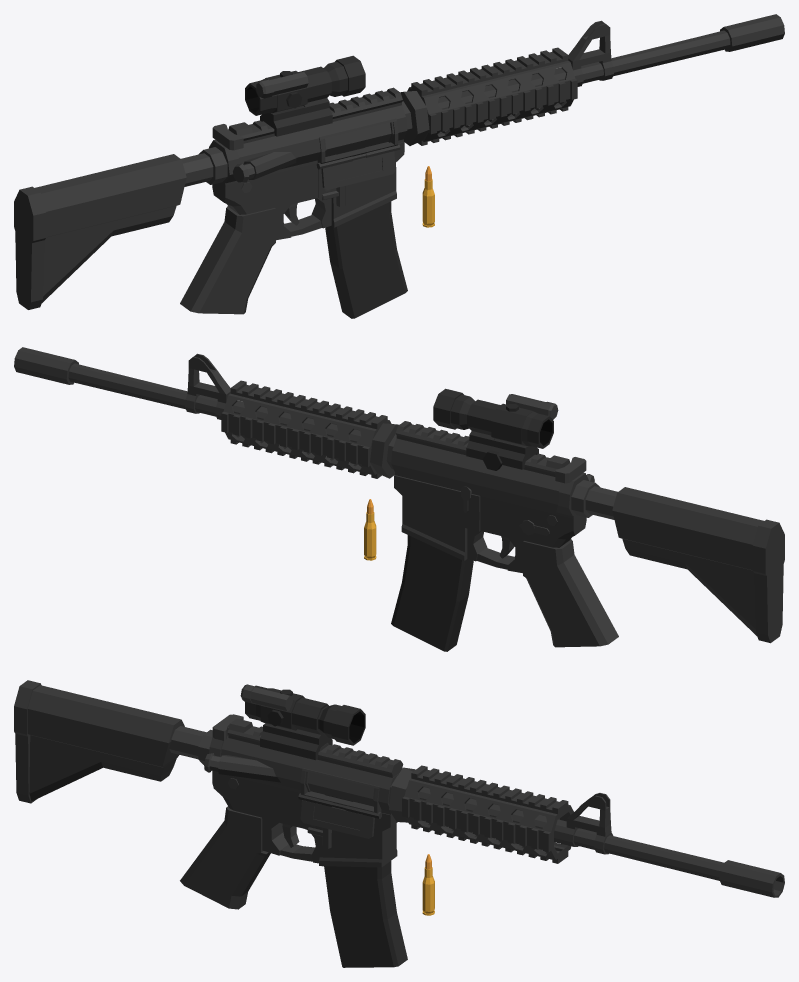
3 renders of one model, top to bottom at view 1: azimuth 30°, elevation 25°; view 2: azimuth 150°, elevation 25°; view 3: azimuth 330°, elevation 25°, orthographic.
Visible parts, largest first — view 1: M4, Mag, Scope, Bullet; view 2: M4, Scope, Mag, Bullet; view 3: M4, Mag, Scope, Bullet.
Part boxes in pixels (x1,y1,x2,y2): M4: (14,14,784,314); Mag: (325,147,407,318); Scope: (245,55,365,136); Bullet: (422,166,434,227); M4: (14,347,784,647); Scope: (433,388,558,470); Mag: (391,535,473,651); Bullet: (364,499,376,560); M4: (14,680,784,909); Mag: (324,795,407,967); Scope: (240,684,365,760); Bullet: (422,854,434,915).
Size of the model in its own units: 999 by 331 by 80.42.
1 material, 1 textured.
